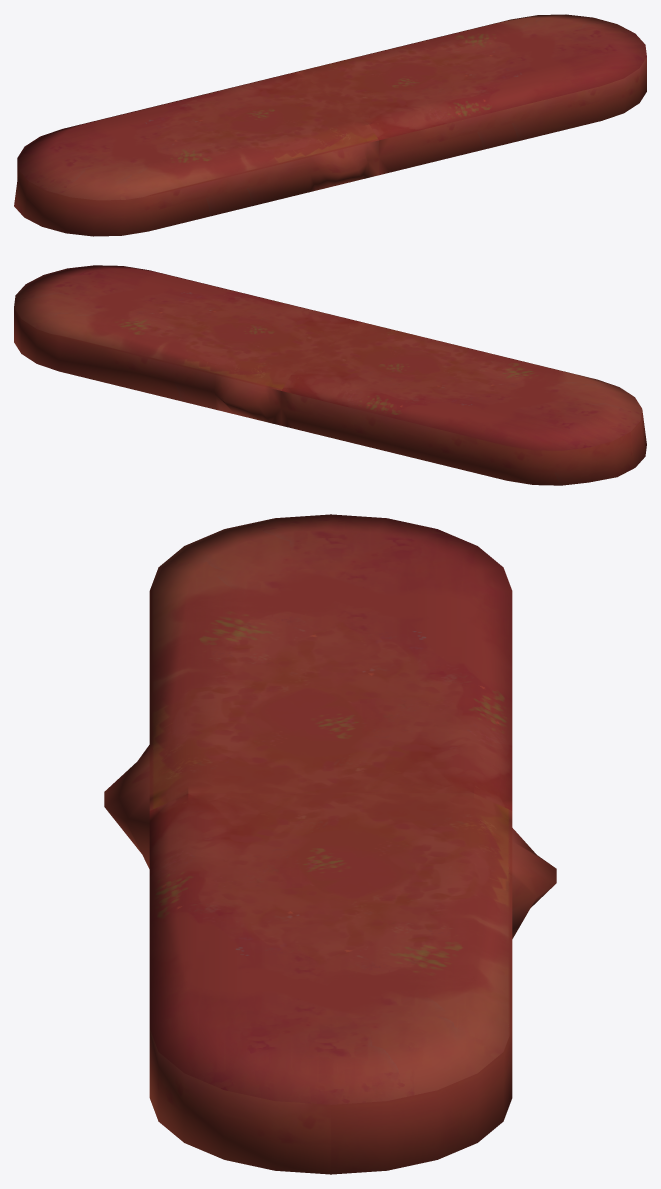
File: S_GroundJungle.fbx
3 views of the same model, one above another, from view 1: azimuth 30°, elevation 25°; view 2: azimuth 150°, elevation 25°; view 3: azimuth 270°, elevation 25° (orthographic). The views are drawn at different scales.
Visible parts, largest first — view 1: GroundJungle3; view 2: GroundJungle3; view 3: GroundJungle3.
Boxes of the visible parts, x1,y1,x2,y2 form: GroundJungle3: [14, 14, 646, 236]; GroundJungle3: [14, 265, 646, 485]; GroundJungle3: [104, 514, 556, 1174].
Bounding box in the file's own units: 500 × 34.19 × 161.
1 material, 1 textured.
